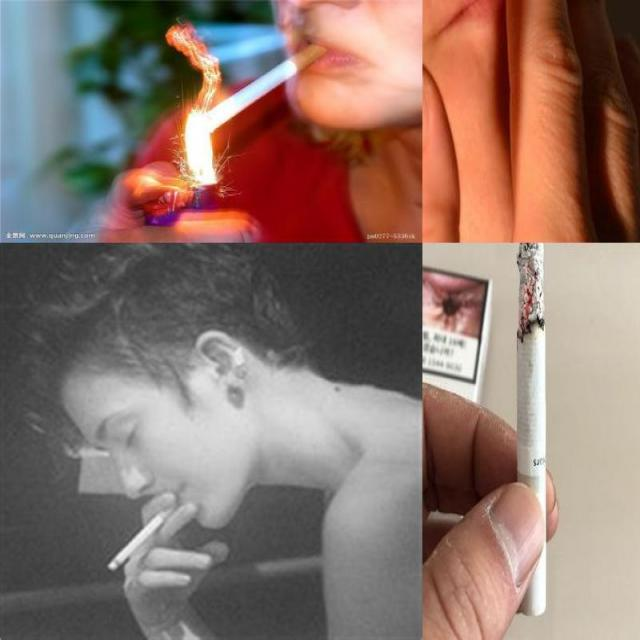smoke: (516, 242, 546, 618), (211, 43, 325, 124), (102, 496, 188, 575)
